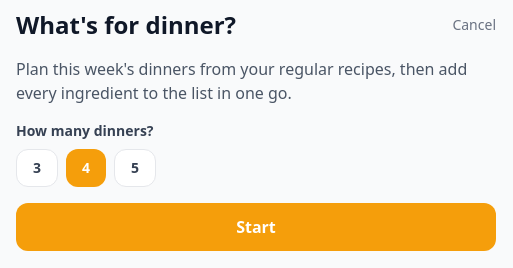
Test: suggestions › rotates through the whole pool once every option has been rejected
What coordinates should you click on to do the following:
click the button "Start"
I would click on:
 (256, 227)
Its box is [16,203,496,251].
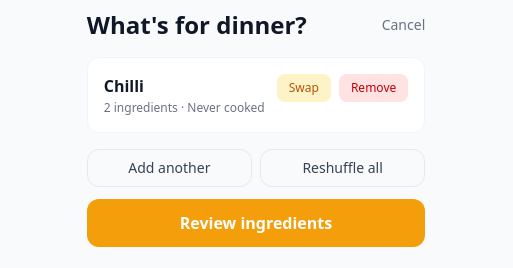
Expected: the heading "Chilli" is shown, [104,75,144,97]
What coordinates should you click on to do the following:
click the button "Swap"
I would click on:
 (304, 88)
Its box is [277,74,331,102].
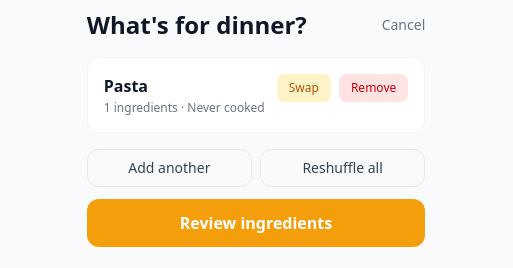
Expected: the heading "Pasta" is shown, [104,75,148,97]
What coordinates should you click on to do the following:
click the button "Swap"
I would click on:
 (304, 88)
Its box is [277,74,331,102].
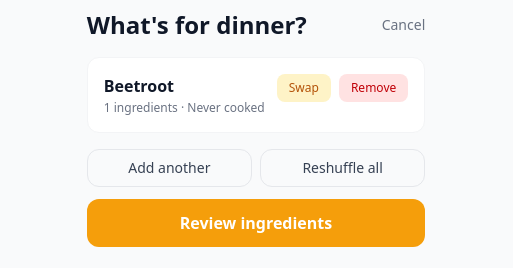
Expected: the heading "Beetroot" is shown, [104,75,174,97]
What coordinates should you click on to do the following:
click the button "Swap"
I would click on:
 (304, 88)
Its box is [277,74,331,102].
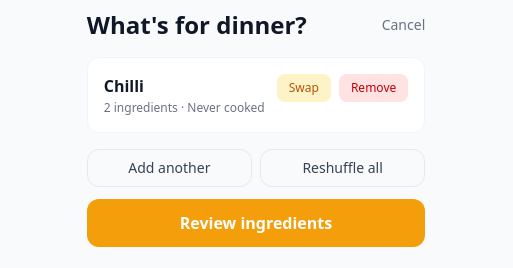
Expected: the heading "Chilli" is shown, [104,75,144,97]
What coordinates should you click on to do the following:
click the button "Swap"
I would click on:
 (304, 88)
Its box is [277,74,331,102].
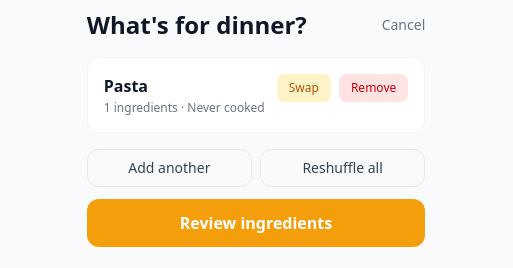
Expected: the heading "Beetroot" is not shown
Expected: the heading "Pasta" is shown, [104,75,148,97]
